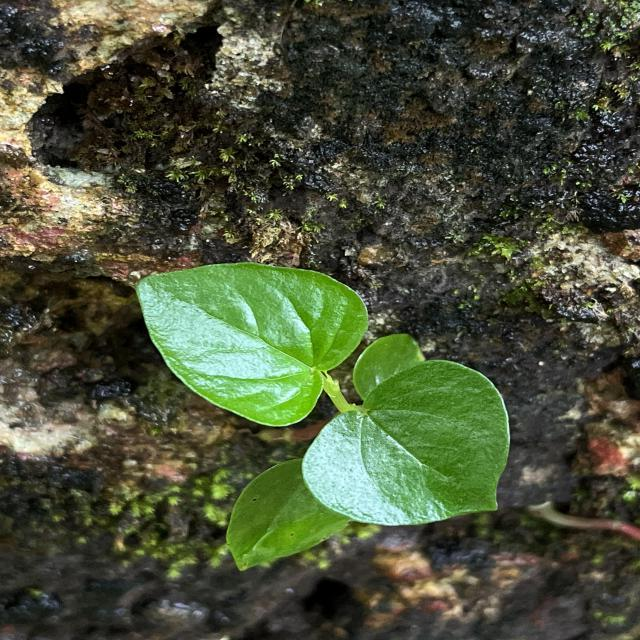Peperomia pellucida: (132, 260, 370, 430), (300, 358, 512, 528)
